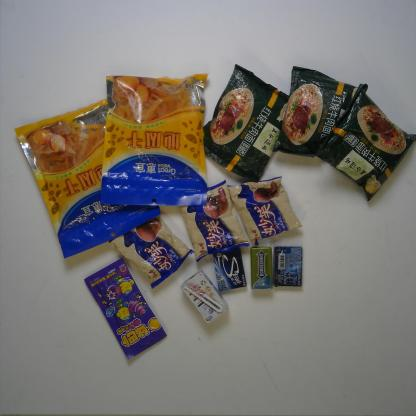Candy: (83, 255, 167, 363)
Dessert: (110, 208, 191, 287), (177, 180, 244, 256), (229, 179, 302, 239)
Dried Fruit: (21, 97, 166, 256), (99, 71, 222, 215)
Gum: (212, 244, 250, 292), (244, 247, 274, 297), (275, 240, 305, 289)
Instant Noodles: (320, 86, 414, 200), (201, 63, 291, 178), (279, 63, 353, 159)
Milk: (181, 270, 226, 330)
